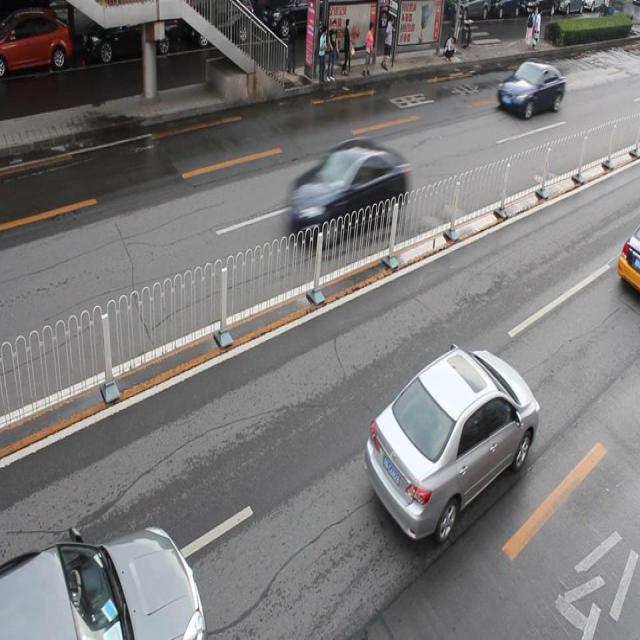car: (365, 343, 538, 542), (1, 525, 206, 640), (287, 140, 409, 242), (81, 1, 176, 68), (1, 12, 71, 78), (496, 60, 564, 119), (184, 2, 254, 48), (258, 1, 328, 46)
